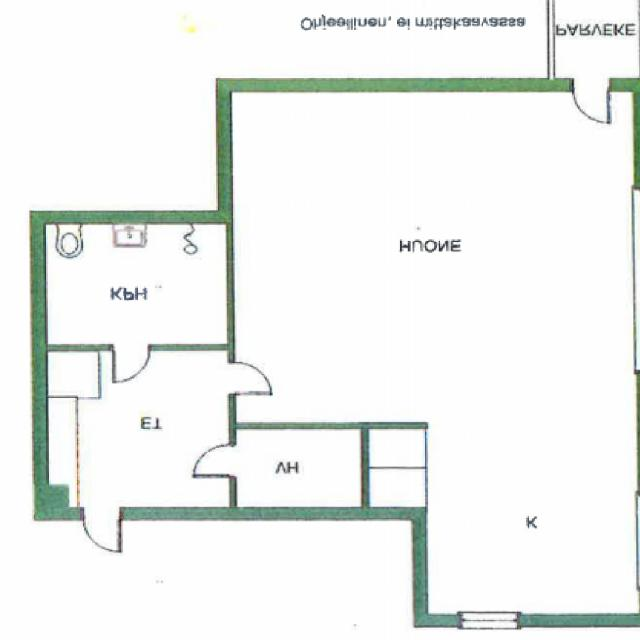door: (572, 78, 609, 122), (84, 508, 121, 552), (227, 363, 270, 395), (113, 346, 150, 382), (193, 446, 233, 476)
